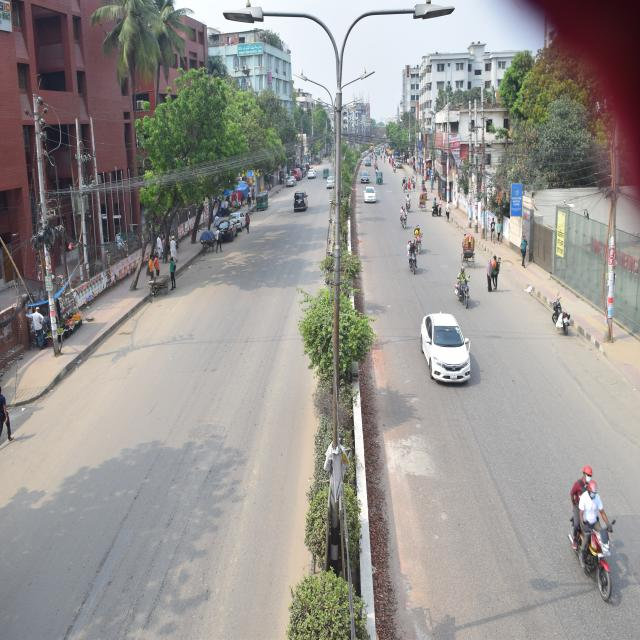car: (414, 293, 471, 392), (292, 183, 315, 219), (228, 202, 250, 239), (217, 220, 240, 245), (325, 170, 341, 200), (363, 184, 380, 204), (308, 163, 318, 183), (360, 171, 371, 187)
motorbike: (559, 457, 618, 601), (544, 282, 570, 334), (450, 271, 474, 311), (402, 241, 416, 271), (412, 228, 426, 255), (399, 203, 411, 232), (402, 193, 412, 214), (431, 202, 440, 217)
